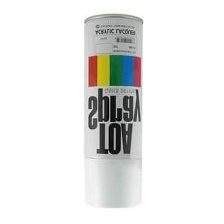aerosol_cans: (79, 11, 145, 212)
